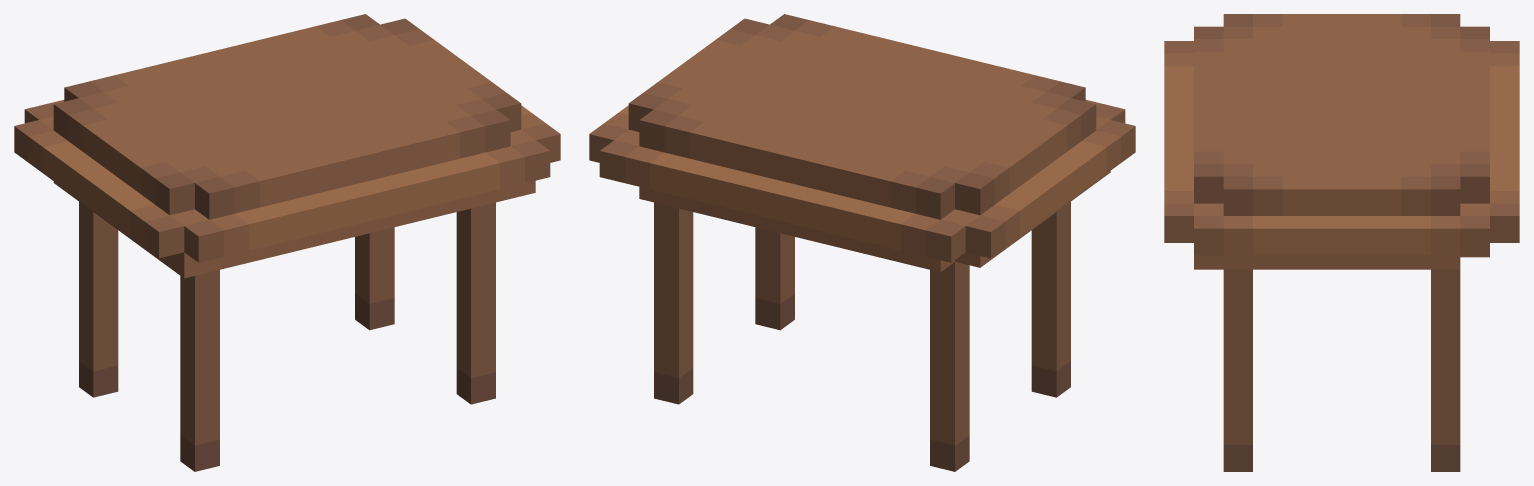
File: Interior_Furniture_Table_Long_Type02_1x1.obj
The picture shows the model from 3 angles, left to right: view 1: azimuth 30°, elevation 25°; view 2: azimuth 150°, elevation 25°; view 3: azimuth 270°, elevation 25°; orthographic projection. The views are drawn at different scales.
Size of the model in its own units: 1.6 by 1.1 by 1.2.
1 material, 1 textured.
